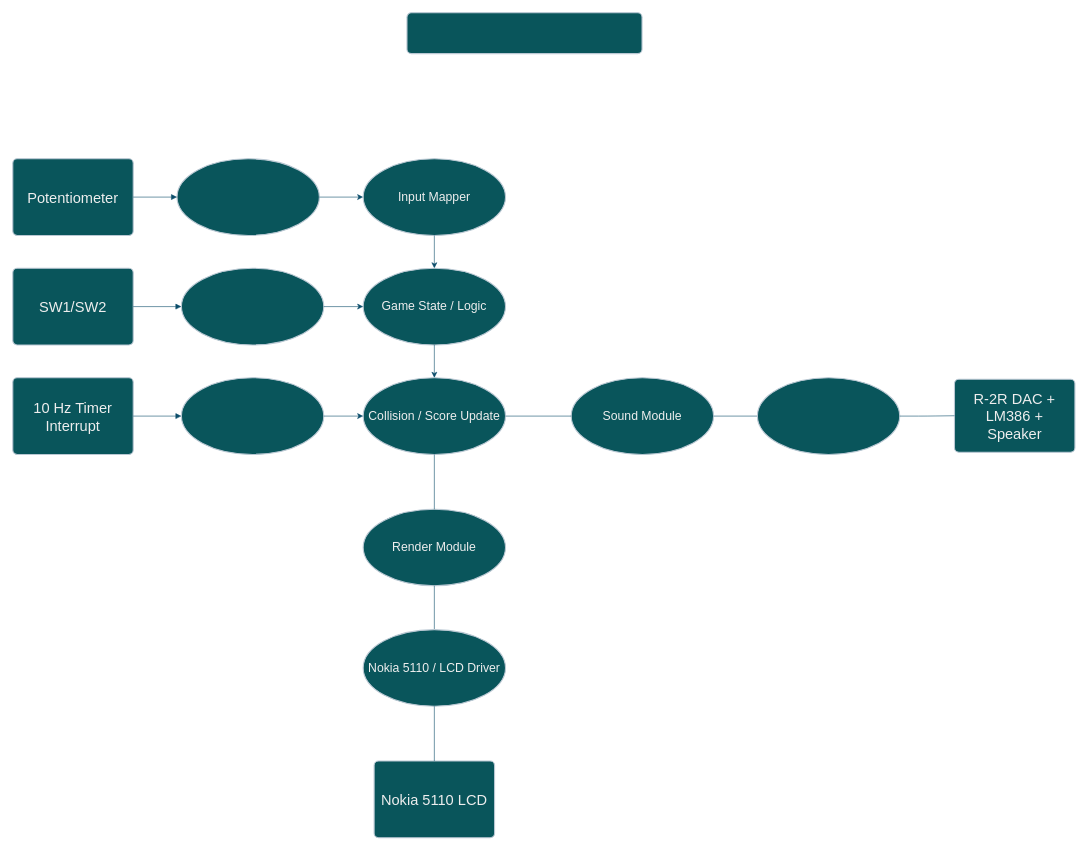
Image size: 1088x851. Some labels were removed from this diagram. Here are the shapes that lost their labels. From the top down, the centre of each, then its label:
At point 524,33: "Data Flow Graph".
At point 248,197: "ADC Driver".
At point 252,306: "GPIO Interrupts".
At point 252,416: "Tick Event Source".
At point 828,416: "DAC Driver".
